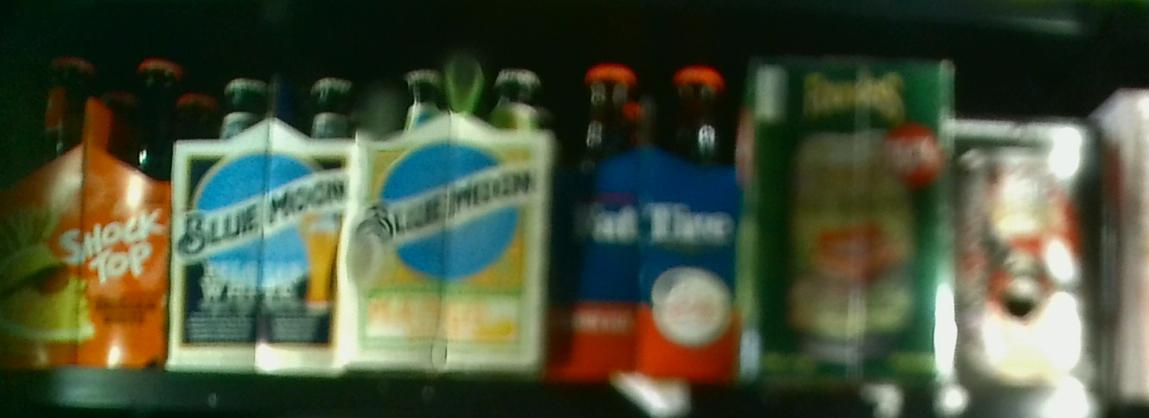bottle: (748, 49, 942, 376), (356, 65, 543, 370), (1, 41, 169, 370), (180, 62, 345, 378), (573, 53, 737, 364), (946, 111, 1095, 389)
